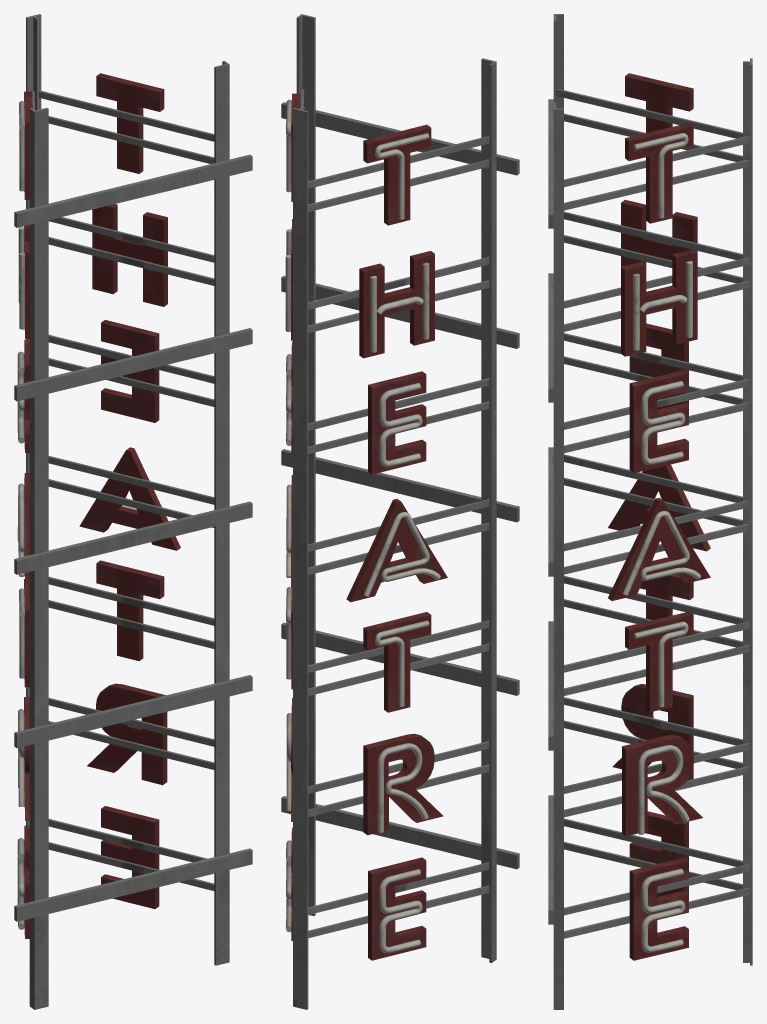
Rendered from SM_NeonSigns_Theatre.FBX.
3 views of the same model, side by side, from view 1: azimuth 30°, elevation 25°; view 2: azimuth 150°, elevation 25°; view 3: azimuth 270°, elevation 25° (orthographic).
Visible parts, largest first — view 1: SM_NeonSigns_Theatre_LOD0; view 2: SM_NeonSigns_Theatre_LOD0; view 3: SM_NeonSigns_Theatre_LOD0.
Boxes of the visible parts, left/top/right/bottom form: SM_NeonSigns_Theatre_LOD0: left=14, top=14, right=252, bottom=1009; SM_NeonSigns_Theatre_LOD0: left=281, top=14, right=519, bottom=1009; SM_NeonSigns_Theatre_LOD0: left=548, top=14, right=752, bottom=1009.
Size of what is drawn, in the model's own units: 142 by 106 by 518.
